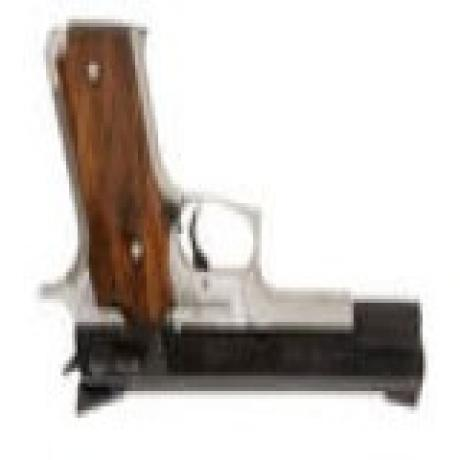weapon: (43, 21, 427, 419)
